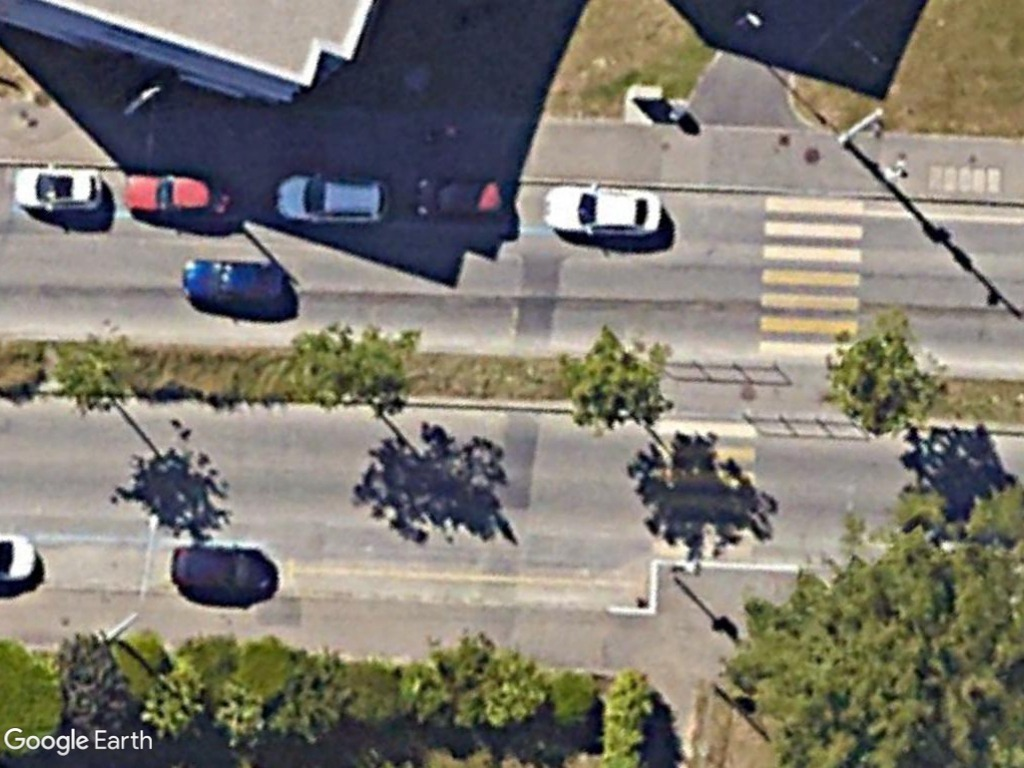car: (539, 180, 666, 242), (268, 170, 394, 227), (9, 164, 108, 215)
